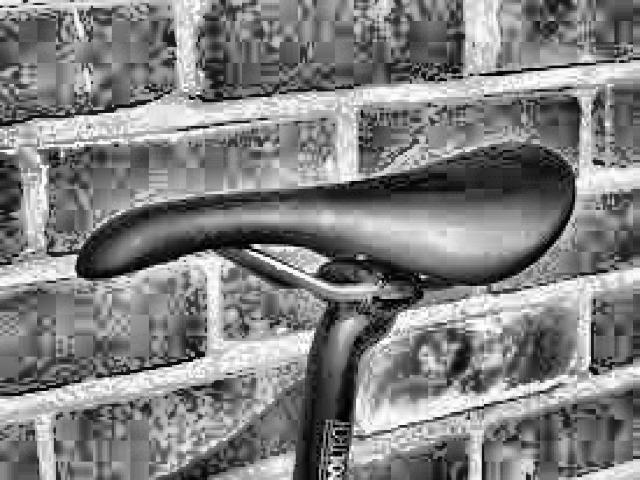saddle: (73, 142, 580, 292)
